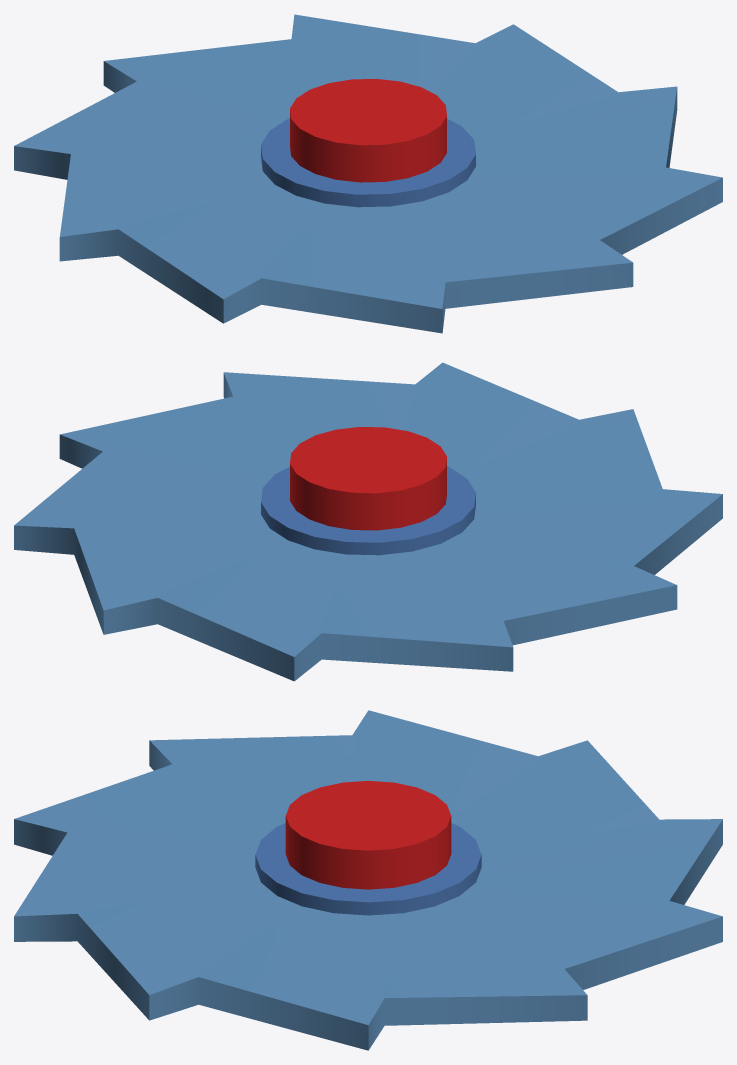
File: obstacle-knife.fbx
The picture shows the model from 3 angles, top to bottom: view 1: azimuth 30°, elevation 25°; view 2: azimuth 150°, elevation 25°; view 3: azimuth 270°, elevation 25°; orthographic projection. The views are drawn at different scales.
Parts seen in each view (by area): view 1: obstacle-knife; view 2: obstacle-knife; view 3: obstacle-knife.
Boxes of the visible parts, left/top/right/bottom form: obstacle-knife: left=14, top=14, right=722, bottom=333; obstacle-knife: left=14, top=362, right=722, bottom=681; obstacle-knife: left=14, top=710, right=722, bottom=1050.
Bounding box in the file's own units: 0.8302 × 0.0965 × 0.7896.
